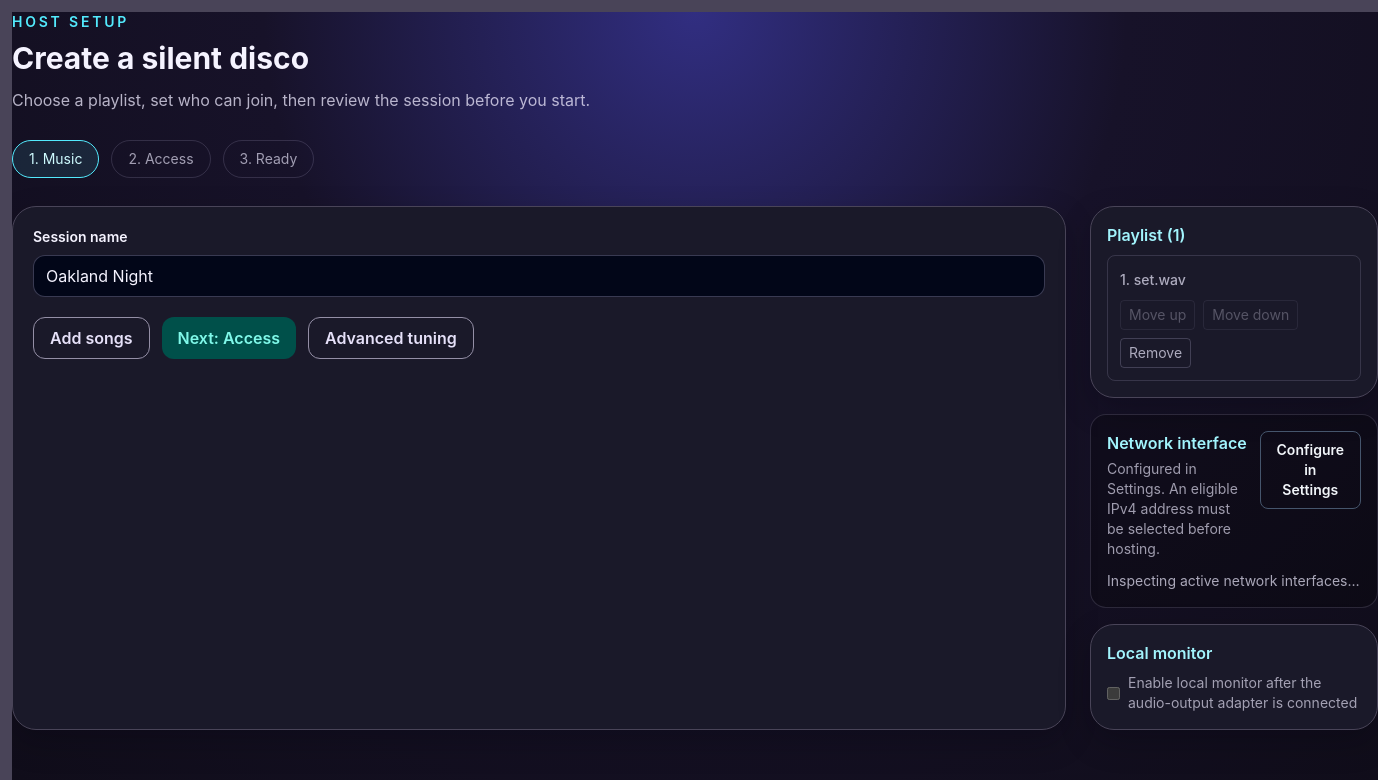
Test: HostSetupScreen › shows invite-code controls only for invite-code approval
Click the button "Next: Access" at (229, 338), box [162, 317, 296, 359]
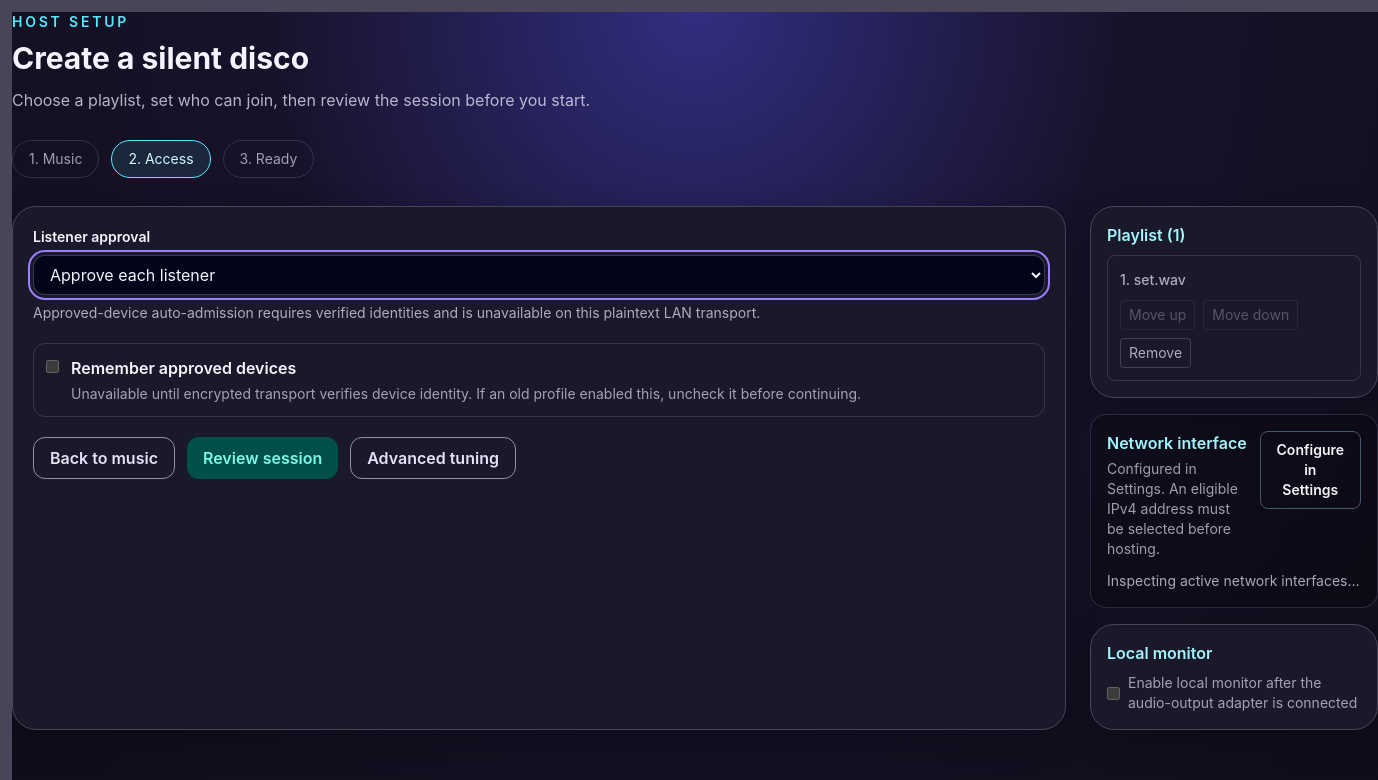
Expected: the field labelled "Invite code" is not shown
Select "Require an invite code" in the dropdown labelled "Listener approval" at (539, 275), box [33, 255, 1045, 295]
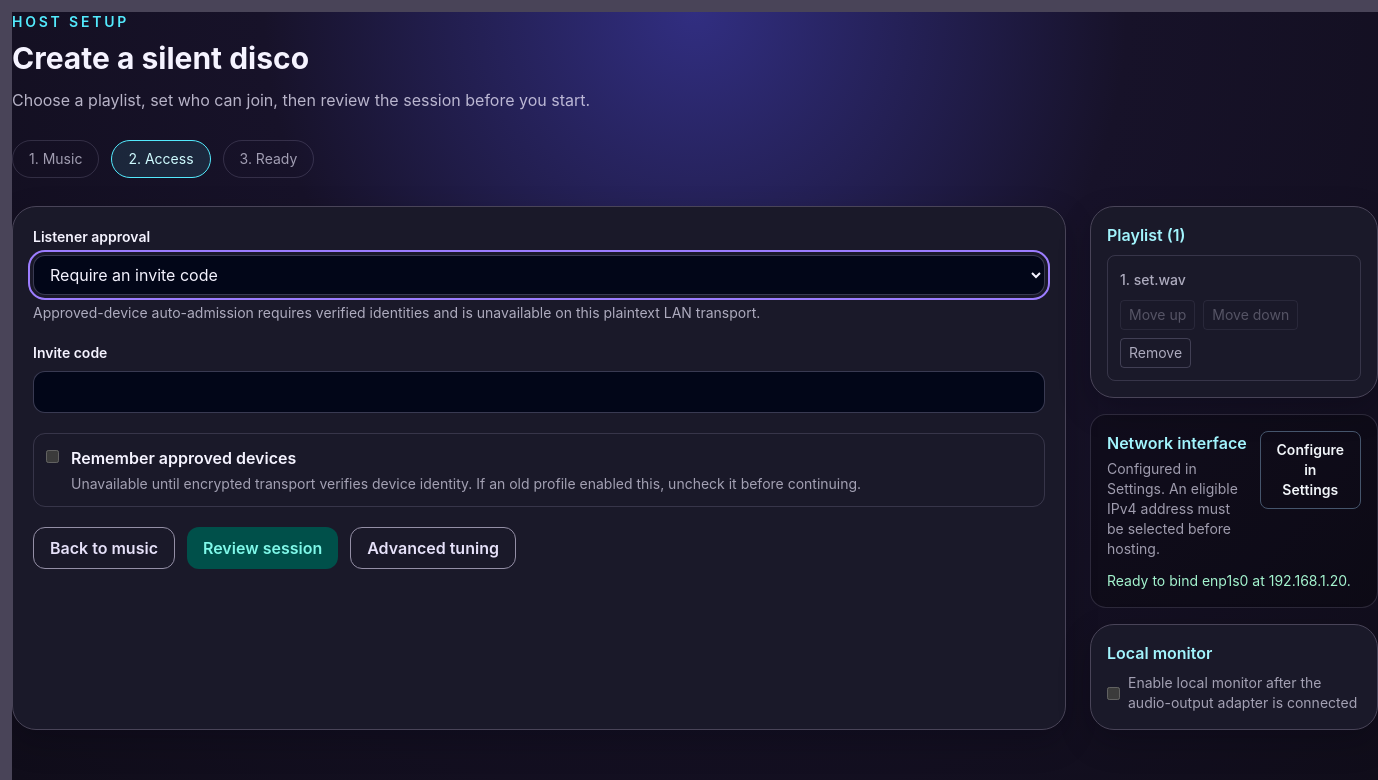
Expected: the field labelled "Invite code" is shown, [33, 371, 1045, 413]
